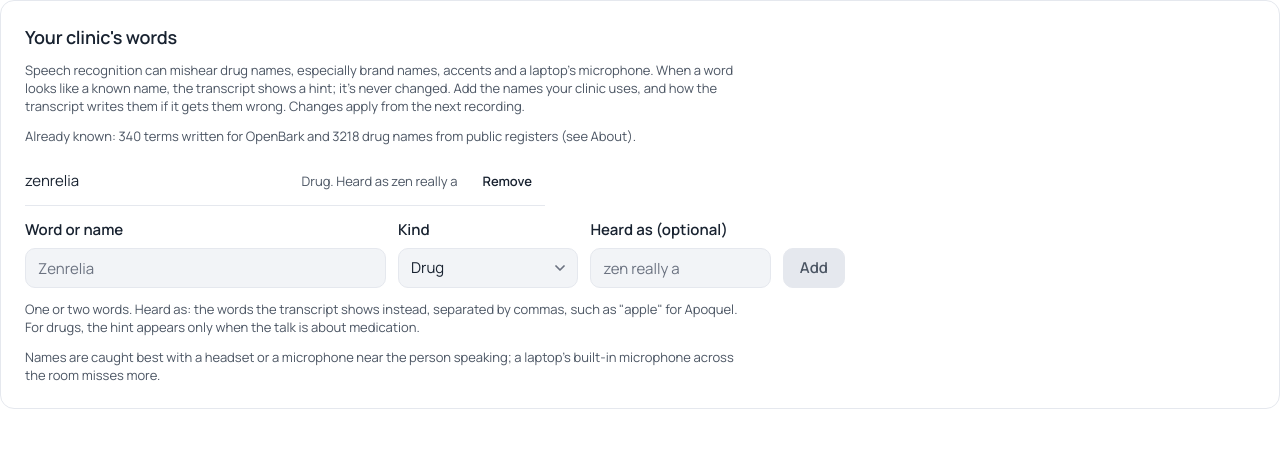
Test: Words and drug names › lists the clinic's words and adds one with how it's heard
Expected: the text "zenrelia" is shown, left=25, top=170, right=79, bottom=191
Expected: the text "3218 drug names from public registers" is shown, left=25, top=127, right=636, bottom=145
Type "Librela" into the field labelled "Word or name". click: point(205, 268)
box: left=25, top=248, right=386, bottom=288
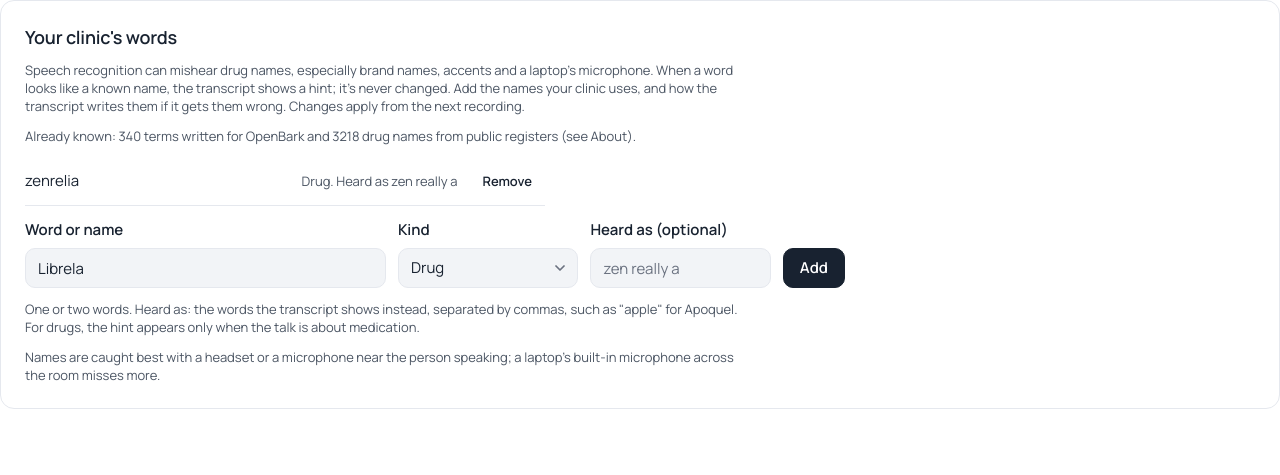
Type "library" into the field labelled "Heard as (optional)". click: point(681, 268)
box: left=590, top=248, right=771, bottom=288
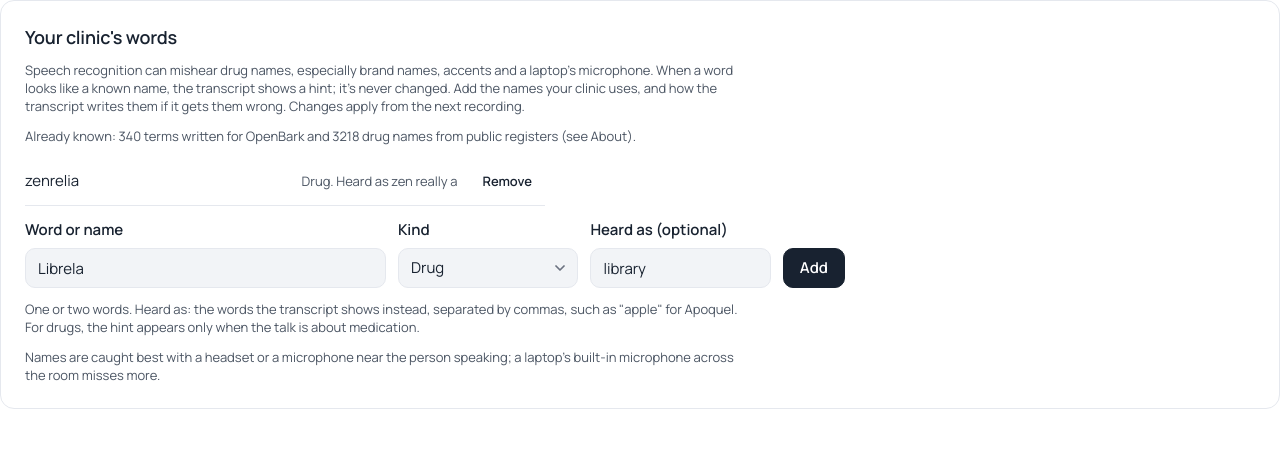
Click the button "Add". click: point(814, 268)
box: left=783, top=248, right=845, bottom=288
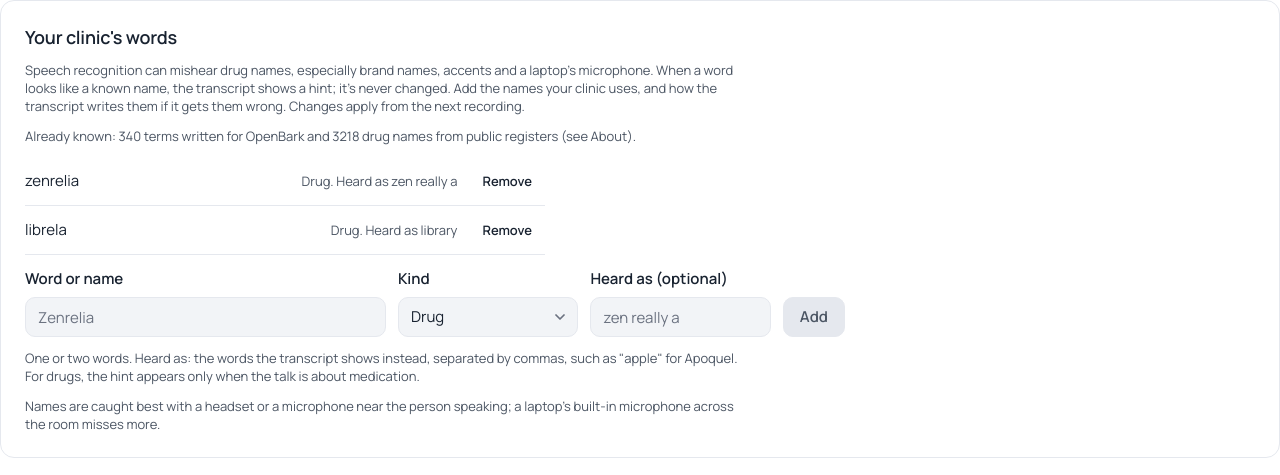
Now the text "librela" is shown, box left=25, top=219, right=67, bottom=240
